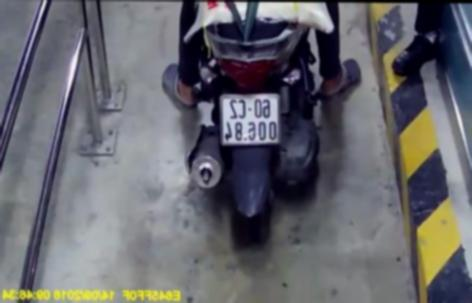License_Plate: (210, 89, 290, 153)
